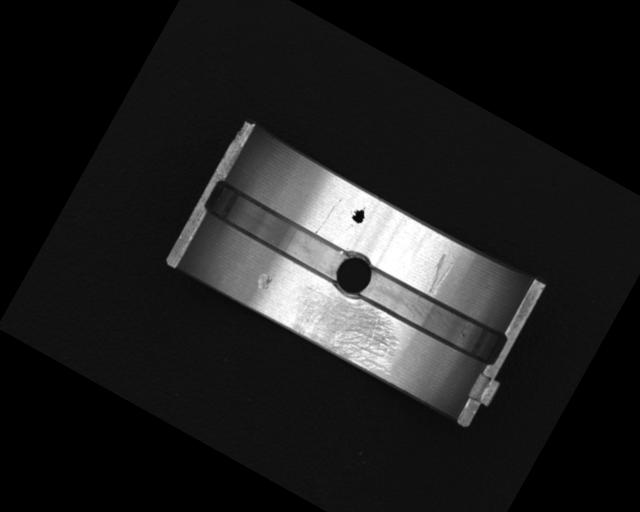blot: (348, 202, 371, 226)
bruise: (254, 272, 273, 293)
gap: (358, 264, 509, 371), (202, 178, 352, 284)
hole: (327, 244, 381, 302)
nick: (421, 251, 458, 297), (314, 196, 341, 236)
scratch: (280, 272, 413, 381)
